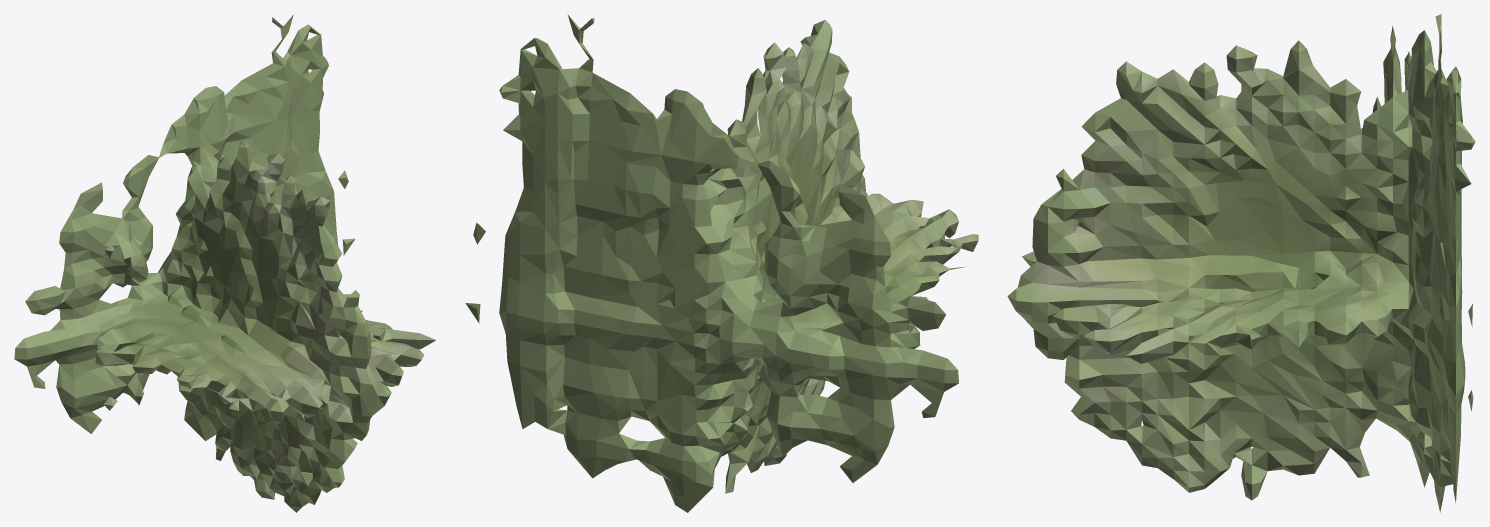
File: grass_patch.glb
The picture shows the model from 3 angles, left to right: view 1: azimuth 30°, elevation 25°; view 2: azimuth 150°, elevation 25°; view 3: azimuth 270°, elevation 25°; orthographic projection. The views are drawn at different scales.
Visible parts, largest first — view 1: world; view 2: world; view 3: world.
Part boxes in pixels (x1=…): world: x1=14, y1=14, x2=435, y2=512; world: x1=465, y1=14, x2=978, y2=512; world: x1=1007, y1=14, x2=1475, y2=512.
Size of the model in its own units: 0.288 by 0.3 by 0.2393.
